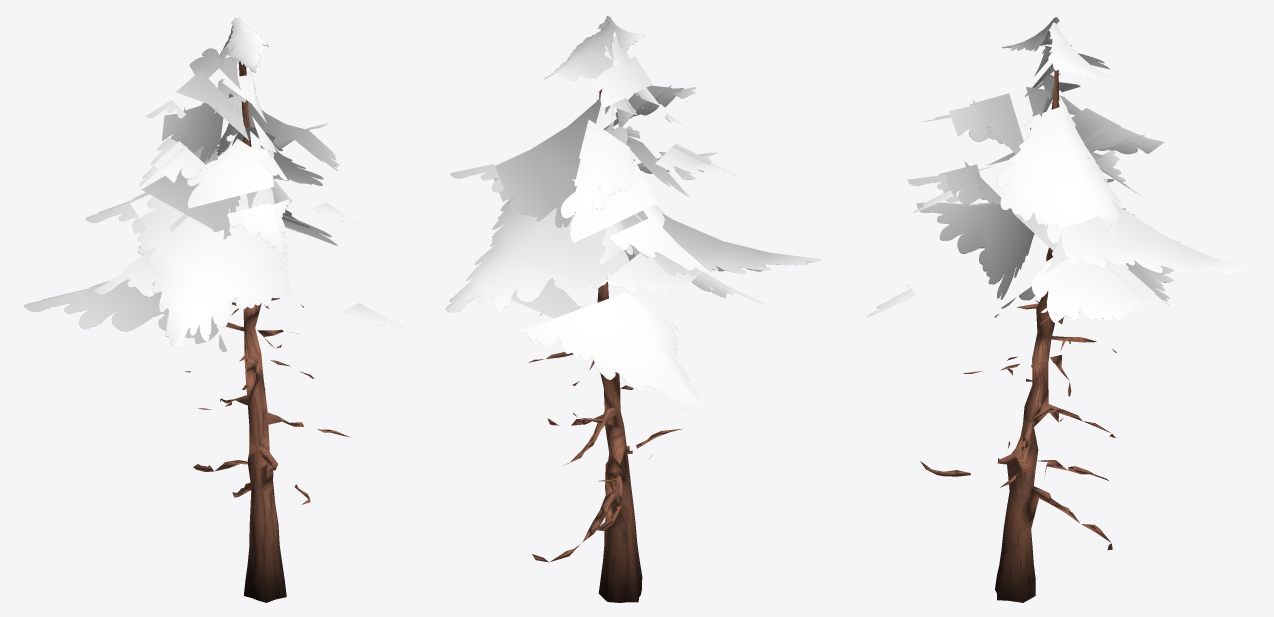
The model's file is Pine_3.gltf.
3 renders of one model, left to right at view 1: azimuth 30°, elevation 25°; view 2: azimuth 150°, elevation 25°; view 3: azimuth 270°, elevation 25°, orthographic. The views are drawn at different scales.
Parts seen in each view (by area): view 1: Pine_3; view 2: Pine_3; view 3: Pine_3.
Boxes of the visible parts, box(x1,y1,x2,y2) form: Pine_3: box(23, 17, 403, 602); Pine_3: box(445, 16, 820, 602); Pine_3: box(867, 17, 1251, 602).
Bounding box in the file's own units: 3.98 × 7.49 × 4.73.
2 materials, 2 textured.
